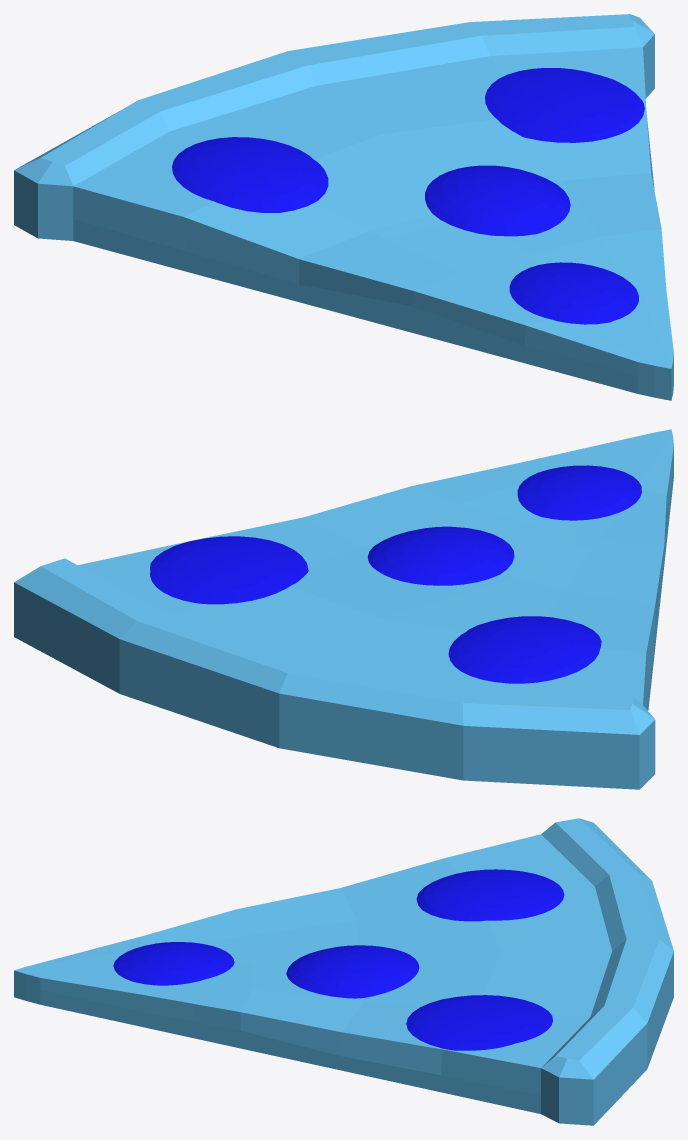
File: BlueSlice.fbx
3 views of the same model, one above another, from view 1: azimuth 30°, elevation 25°; view 2: azimuth 150°, elevation 25°; view 3: azimuth 270°, elevation 25° (orthographic). The views are drawn at different scales.
Visible parts, largest first — view 1: Pizza_Slice; view 2: Pizza_Slice; view 3: Pizza_Slice.
Part boxes in pixels (x1,y1,x2,y2): Pizza_Slice: (14,14,673,400); Pizza_Slice: (14,429,673,789); Pizza_Slice: (14,818,673,1125).
Size of the model in its own units: 107 by 11.28 by 116.
